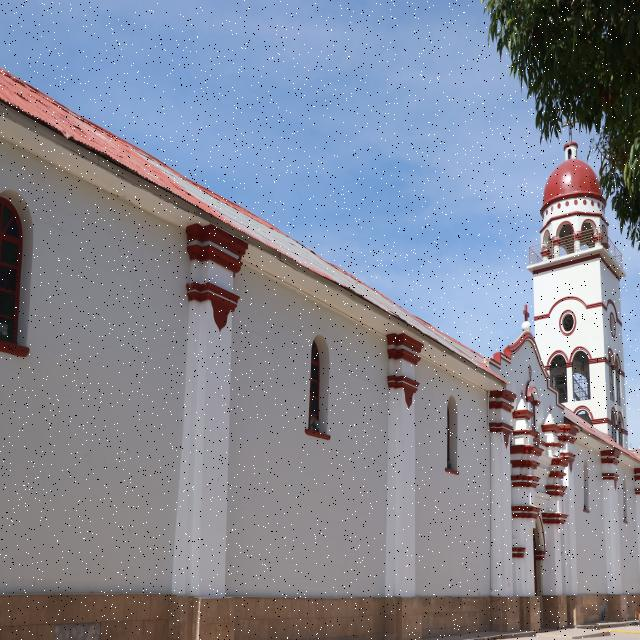CAMPANARIO: (511, 237, 634, 452)
CUPULA: (528, 141, 628, 267)
PORTADA CENTRAL: (480, 383, 584, 640)
colonial-architecture-: (0, 45, 640, 640)
